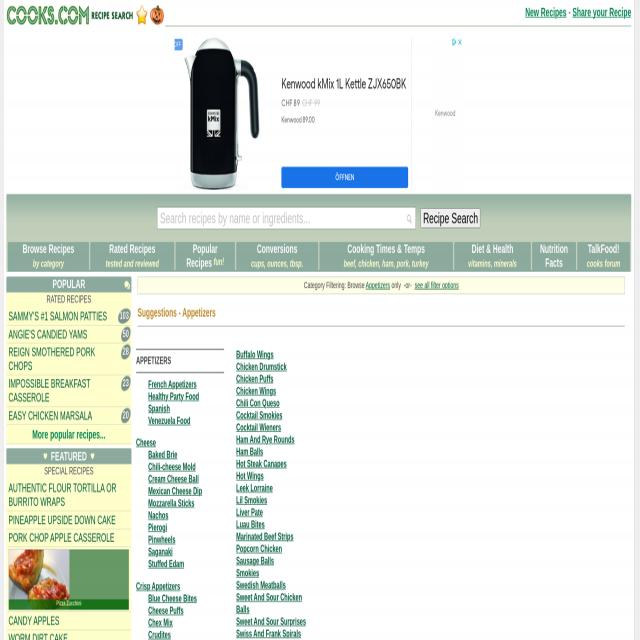button: (9, 550, 129, 610), (320, 243, 452, 270), (282, 167, 408, 189), (7, 6, 135, 26), (91, 242, 173, 270), (455, 244, 531, 272), (237, 244, 317, 270), (9, 244, 89, 270), (176, 243, 234, 270), (578, 243, 630, 270), (421, 208, 481, 228), (532, 242, 576, 269), (149, 6, 165, 26), (135, 6, 149, 26), (118, 308, 130, 324), (121, 326, 131, 342), (121, 344, 131, 360), (121, 376, 131, 392), (121, 408, 131, 423), (450, 34, 457, 49), (458, 37, 463, 48), (406, 214, 412, 223)
field: (157, 207, 415, 229)
